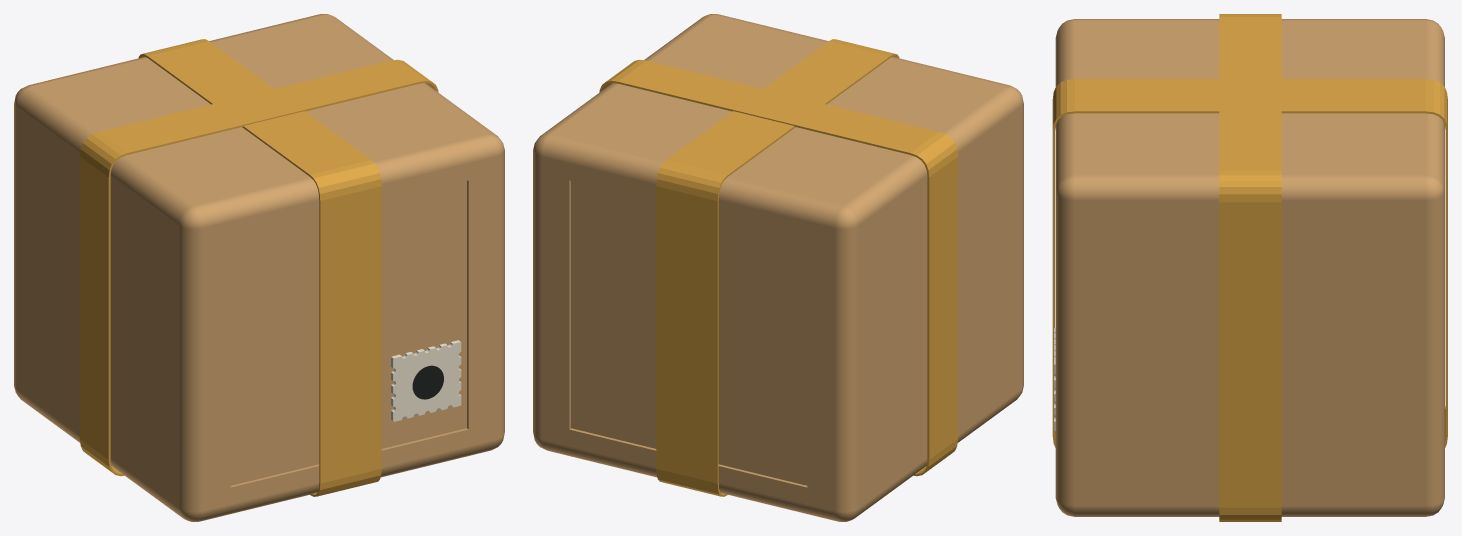
File: play-parcel-small-yellow.glb
3 renders of one model, left to right at view 1: azimuth 30°, elevation 25°; view 2: azimuth 150°, elevation 25°; view 3: azimuth 270°, elevation 25°, orthographic. The views are drawn at different scales.
Parts seen in each view (by area): view 1: Parcel_Carton, Parcel_Tape_Continuous_Front_Back, Parcel_Tape_Continuous_Left_Right, Parcel_Paper_Label, Parcel_Label_Circle; view 2: Parcel_Carton, Parcel_Tape_Continuous_Front_Back, Parcel_Tape_Continuous_Left_Right; view 3: Parcel_Carton, Parcel_Tape_Continuous_Left_Right, Parcel_Tape_Continuous_Front_Back.
Part boxes in pixels (box(x1,y1,x2,y2)): Parcel_Carton: box(14, 14, 504, 521); Parcel_Tape_Continuous_Front_Back: box(138, 39, 381, 496); Parcel_Tape_Continuous_Left_Right: box(80, 59, 438, 476); Parcel_Paper_Label: box(391, 340, 461, 421); Parcel_Label_Circle: box(412, 365, 443, 399); Parcel_Carton: box(533, 14, 1023, 521); Parcel_Tape_Continuous_Front_Back: box(656, 39, 899, 496); Parcel_Tape_Continuous_Left_Right: box(599, 59, 957, 476); Parcel_Carton: box(1055, 19, 1444, 516); Parcel_Tape_Continuous_Left_Right: box(1219, 14, 1281, 521); Parcel_Tape_Continuous_Front_Back: box(1052, 79, 1447, 447).
Size of the model in its own units: 0.148 by 0.138 by 0.1423.
